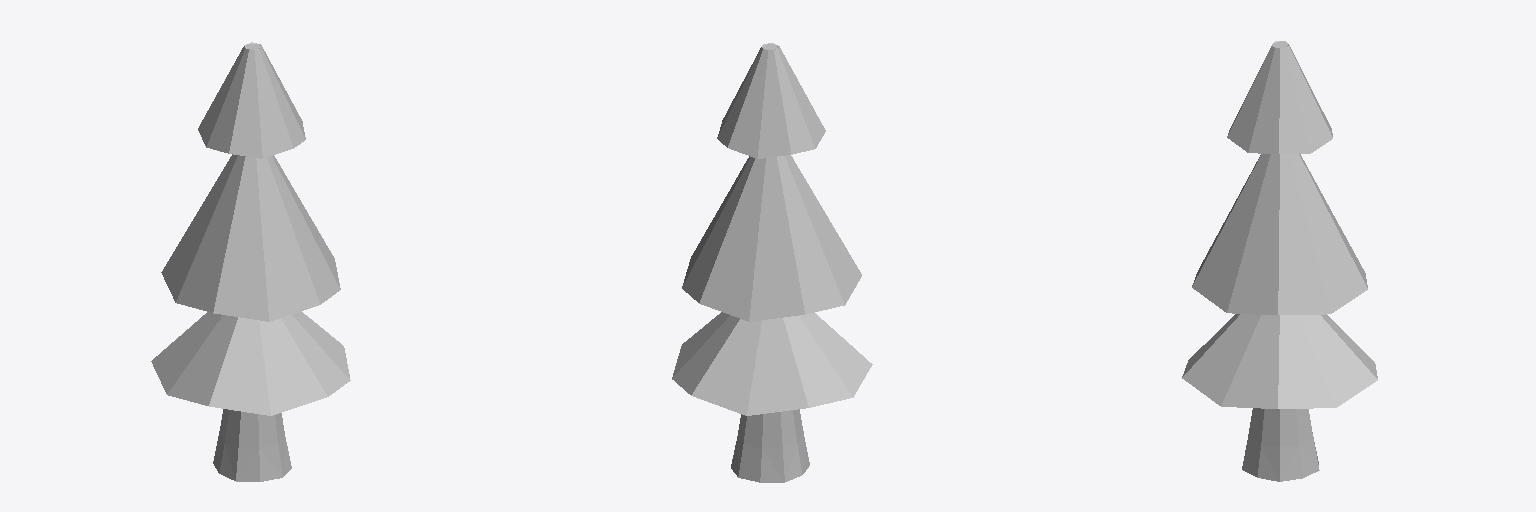
Rendered from tree.obj.
3 views of the same model, side by side, from view 1: azimuth 30°, elevation 25°; view 2: azimuth 150°, elevation 25°; view 3: azimuth 270°, elevation 25° (orthographic).
Parts seen in each view (by area): view 1: Icosphere.002_Icosphere.005; view 2: Icosphere.002_Icosphere.005; view 3: Icosphere.002_Icosphere.005.
Boxes of the visible parts, box(x1,y1,x2,y2) form: Icosphere.002_Icosphere.005: box(151, 42, 350, 481); Icosphere.002_Icosphere.005: box(672, 43, 872, 482); Icosphere.002_Icosphere.005: box(1182, 41, 1377, 481).
Bounding box in the file's own units: 0.9439 × 2.18 × 0.9202.